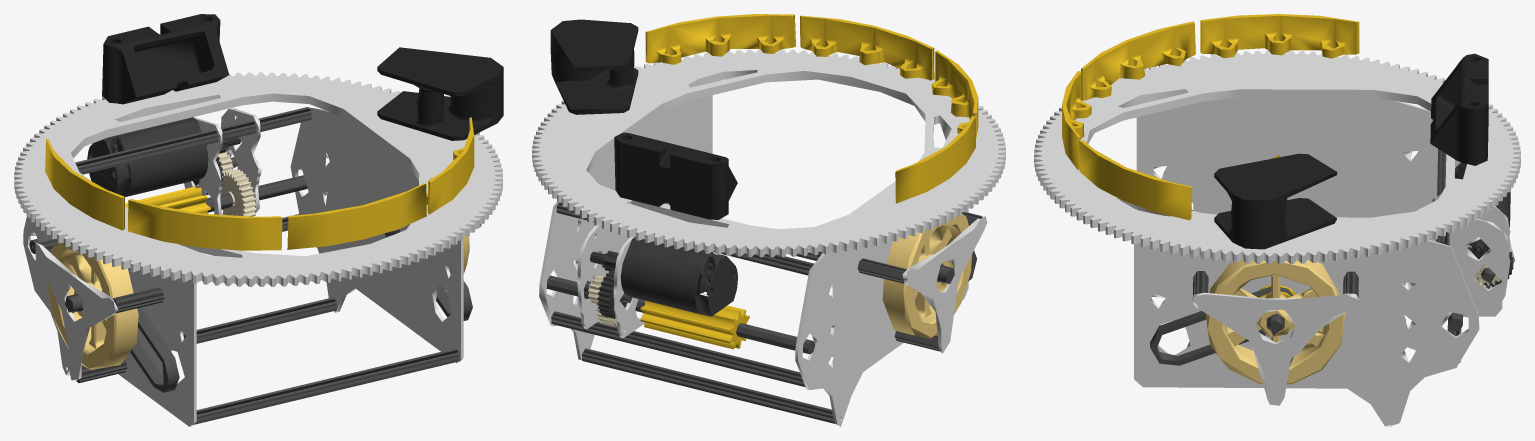
The model's file is 604-turret.glb.
3 views of the same model, side by side, from view 1: azimuth 30°, elevation 25°; view 2: azimuth 150°, elevation 25°; view 3: azimuth 270°, elevation 25° (orthographic). The views are drawn at different scales.
Parts seen in each view (by area): view 1: Hood Power Plate, Osmo Nano Mount, Hood Pinion, 8t Steel Spur Gear (20 DP, 10T Center Distance, SplineXS Bor, 4" Brass Flywheel (1/2" Triangle Bore), 14t Aluminum Spur Gear (20 DP, 3/8" Hex Bore); view 2: Hood Power Plate, Osmo Nano Mount, Hood Pinion, 8t Steel Spur Gear (20 DP, 10T Center Distance, SplineXS Bor, 4" Brass Flywheel (1/2" Triangle Bore), 14t Aluminum Spur Gear (20 DP, 3/8" Hex Bore); view 3: Hood Power Plate, Osmo Nano Mount, Hood Pinion, 4" Brass Flywheel (1/2" Triangle Bore), 8t Steel Spur Gear (20 DP, 10T Center Distance, SplineXS Bor.
Part boxes in pixels (<box>): Hood Power Plate: <box>14,72,502,426</box>; Osmo Nano Mount: <box>29,14,503,424</box>; Hood Pinion: <box>45,117,474,250</box>; 8t Steel Spur Gear (20 DP, 10T Center Distance, SplineXS Bor: <box>87,117,240,196</box>; 4" Brass Flywheel (1/2" Triangle Bore): <box>47,236,469,369</box>; 14t Aluminum Spur Gear (20 DP, 3/8" Hex Bore): <box>217,151,256,216</box>; Hood Power Plate: <box>532,49,1005,426</box>; Osmo Nano Mount: <box>546,19,982,423</box>; Hood Pinion: <box>640,14,978,349</box>; 8t Steel Spur Gear (20 DP, 10T Center Distance, SplineXS Bor: <box>590,237,737,318</box>; 4" Brass Flywheel (1/2" Triangle Bore): <box>578,213,971,338</box>; 14t Aluminum Spur Gear (20 DP, 3/8" Hex Bore): <box>588,275,617,327</box>; Hood Power Plate: <box>1034,50,1520,426</box>; Osmo Nano Mount: <box>1150,53,1495,426</box>; Hood Pinion: <box>1062,14,1359,298</box>; 4" Brass Flywheel (1/2" Triangle Bore): <box>1206,260,1345,384</box>; 8t Steel Spur Gear (20 DP, 10T Center Distance, SplineXS Bor: <box>1455,162,1513,288</box>.
Size of the model in its own units: 0.3644 by 0.2225 by 0.348.
